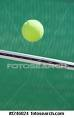tennis ball: (21, 18, 44, 42)
